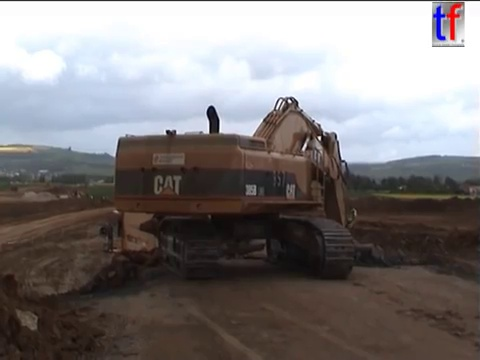excavator: (109, 94, 361, 281), (64, 186, 89, 202)
truck: (97, 206, 270, 280), (8, 182, 20, 194)
worker: (348, 204, 359, 221)
